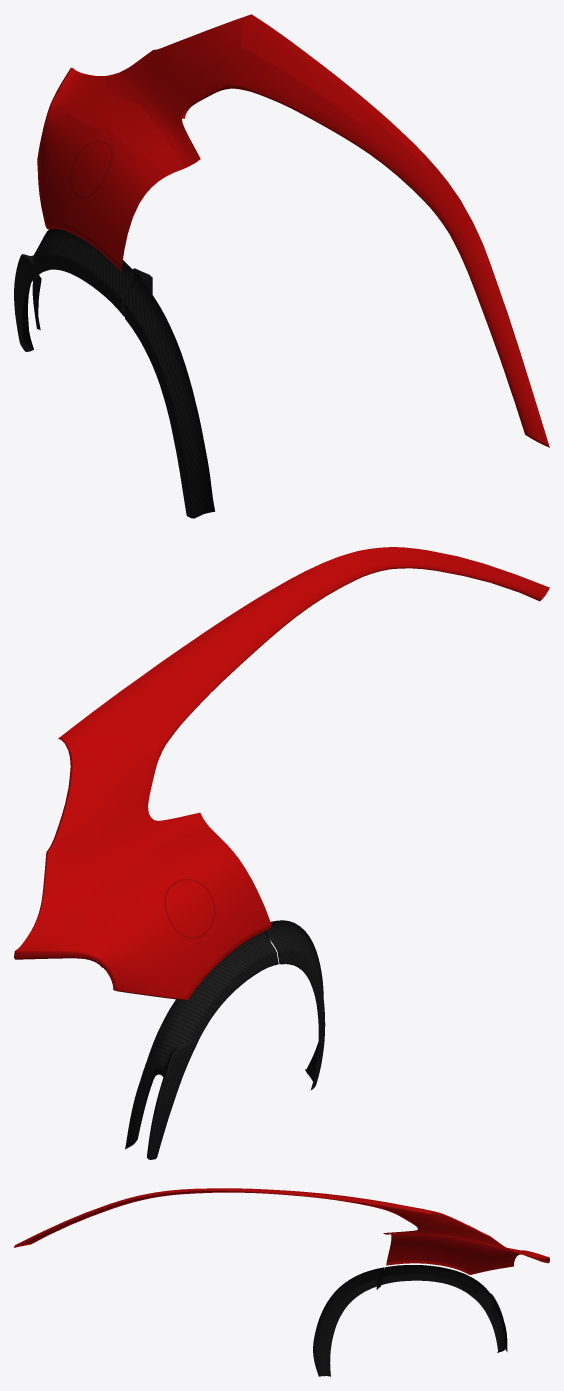
The model's file is sparkboard_rr.glb.
3 views of the same model, one above another, from view 1: azimuth 30°, elevation 25°; view 2: azimuth 150°, elevation 25°; view 3: azimuth 270°, elevation 25° (orthographic). The views are drawn at different scales.
Parts seen in each view (by area): view 1: Paint_Geo_lodA_Ferrari_PurosangueRewardRecycled_2023Paint_M., Carbon2_Geo_lodA_Ferrari_PurosangueRewardRecycled_2023Carbo.; view 2: Paint_Geo_lodA_Ferrari_PurosangueRewardRecycled_2023Paint_M., Carbon2_Geo_lodA_Ferrari_PurosangueRewardRecycled_2023Carbo.; view 3: Paint_Geo_lodA_Ferrari_PurosangueRewardRecycled_2023Paint_M., Carbon2_Geo_lodA_Ferrari_PurosangueRewardRecycled_2023Carbo..
Part boxes in pixels (bbox=[...]): Paint_Geo_lodA_Ferrari_PurosangueRewardRecycled_2023Paint_M.: bbox=[37, 14, 549, 447]; Carbon2_Geo_lodA_Ferrari_PurosangueRewardRecycled_2023Carbo.: bbox=[14, 228, 215, 518]; Paint_Geo_lodA_Ferrari_PurosangueRewardRecycled_2023Paint_M.: bbox=[14, 547, 549, 1000]; Carbon2_Geo_lodA_Ferrari_PurosangueRewardRecycled_2023Carbo.: bbox=[125, 920, 325, 1159]; Paint_Geo_lodA_Ferrari_PurosangueRewardRecycled_2023Paint_M.: bbox=[14, 1188, 549, 1274]; Carbon2_Geo_lodA_Ferrari_PurosangueRewardRecycled_2023Carbo.: bbox=[313, 1265, 507, 1376].
Size of the model in its own units: 0.0056 by 0.0124 by 0.0275.
2 materials, 1 textured.
